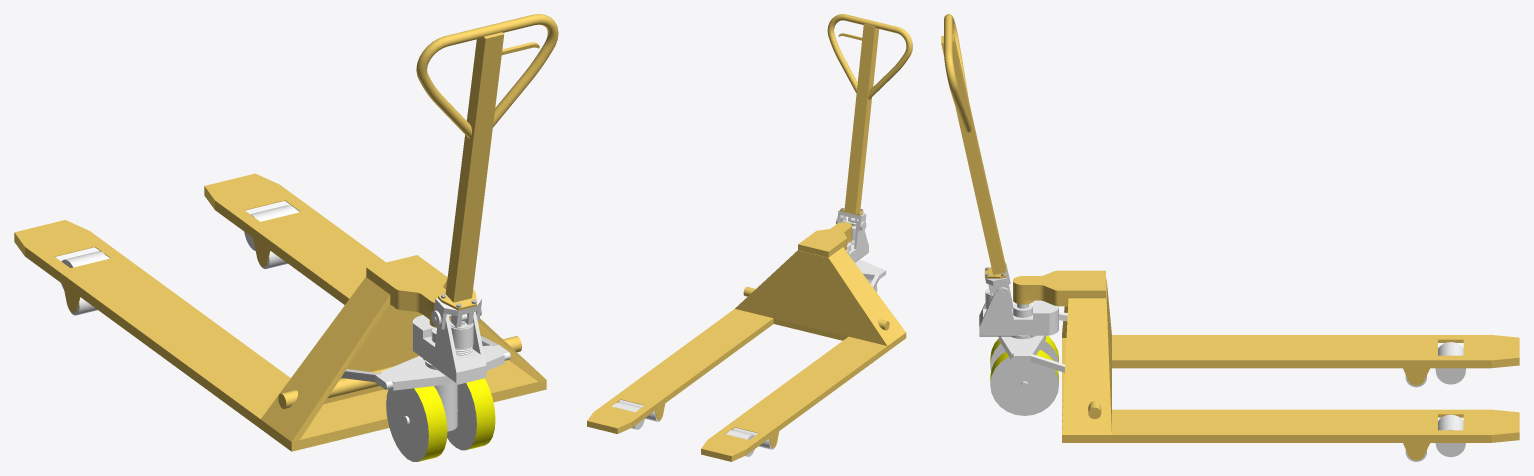
The model's file is Forklift.dae.
The picture shows the model from 3 angles, left to right: view 1: azimuth 30°, elevation 25°; view 2: azimuth 150°, elevation 25°; view 3: azimuth 270°, elevation 25°; orthographic projection. The views are drawn at different scales.
Parts seen in each view (by area): view 1: group_2, group_25 (×2), group_16, group_17, group_20 (×2), group_24, group_7, group_23, group_22 (×2), group_21 (×2), group_26, group_12; view 2: group_2, group_23, group_16, group_25, group_17, group_24, group_7; view 3: group_2, group_25, group_22, group_16, group_24, group_7, group_17, group_4, group_3, group_21.
Part boxes in pixels (x1,y1,x2,y2): group_2: [14, 173, 546, 451]; group_25 (×2): [261, 277, 546, 441]; group_16: [438, 32, 504, 310]; group_17: [416, 14, 558, 138]; group_20 (×2): [386, 386, 447, 461]; group_24: [366, 255, 451, 327]; group_7: [412, 311, 486, 384]; group_23: [324, 304, 483, 403]; group_22 (×2): [447, 378, 495, 450]; group_21 (×2): [380, 345, 504, 431]; group_26: [278, 336, 521, 409]; group_12: [434, 289, 481, 329]; group_2: [587, 309, 906, 461]; group_23: [735, 250, 887, 345]; group_16: [840, 24, 879, 215]; group_25: [828, 247, 905, 345]; group_17: [827, 14, 912, 99]; group_24: [798, 222, 851, 257]; group_7: [840, 215, 868, 262]; group_2: [1062, 335, 1519, 460]; group_25: [1062, 298, 1111, 434]; group_22: [990, 357, 1058, 415]; group_16: [941, 34, 1006, 278]; group_24: [1013, 270, 1105, 306]; group_7: [979, 278, 1058, 336]; group_17: [944, 14, 971, 132]; group_4: [1435, 342, 1465, 384]; group_3: [1435, 414, 1465, 457]; group_21: [998, 335, 1045, 360].
Bounding box in the file's own units: 27.51 × 67.12 × 48.52.
